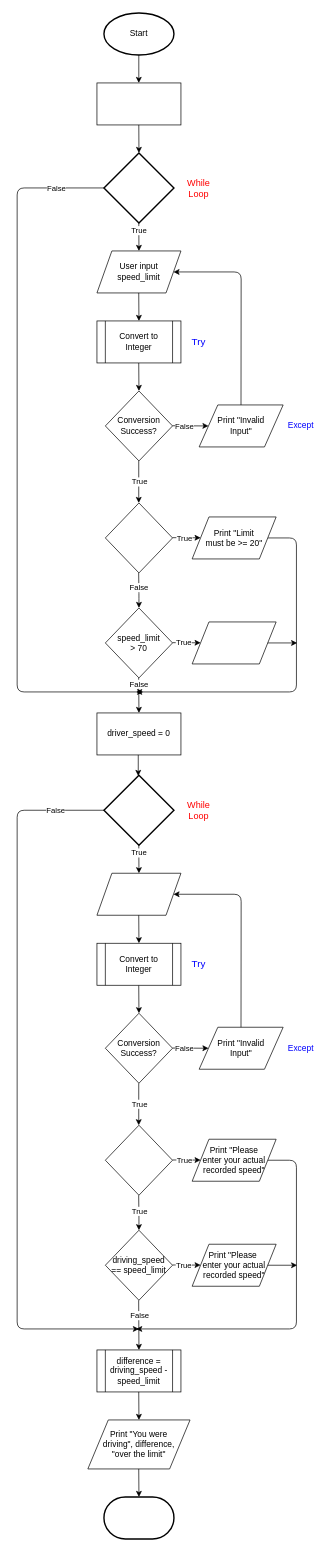
Image size: 330x1551. Some labels were removed from this diagram. The shapes that lost their labels are listed below. From the top down, each one's centre as x and y in pixels, then its label:
(138,103): speed_limit = 0
(138,187): 20 < Speed < 70
(139,537): speed_limit < 20
(233,642): Print "Limit must be <= 70"
(138,810): driver_speed <= speed_limit
(138,894): User input driving_speed
(139,1160): driving_speed < speed_limit
(138,1517): End
